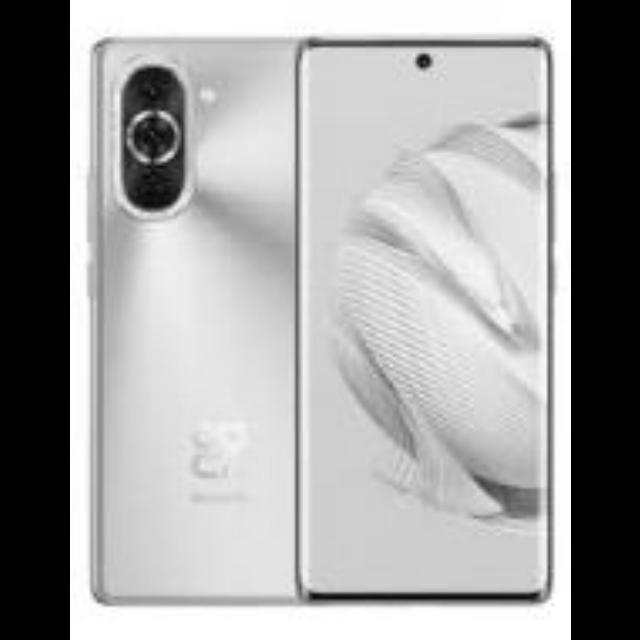fake: (292, 35, 564, 605), (86, 44, 304, 597)
